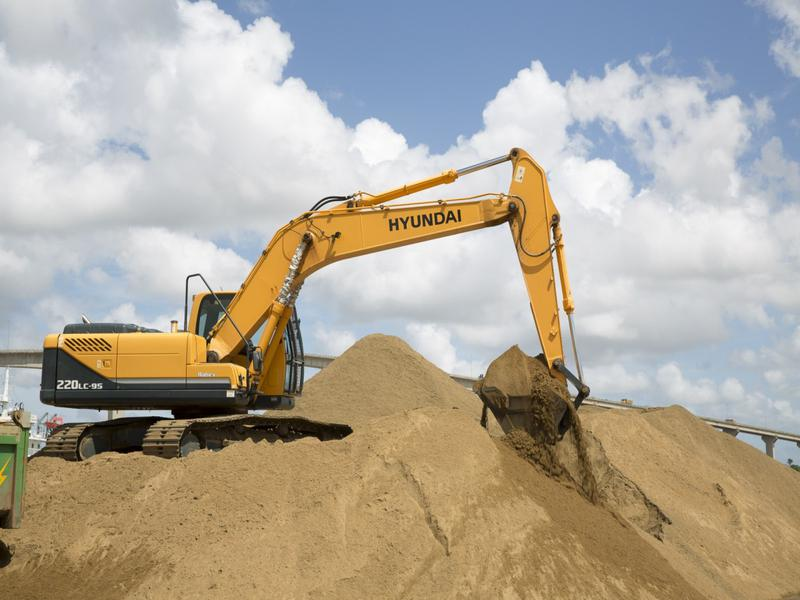shovel: (31, 145, 598, 471)
